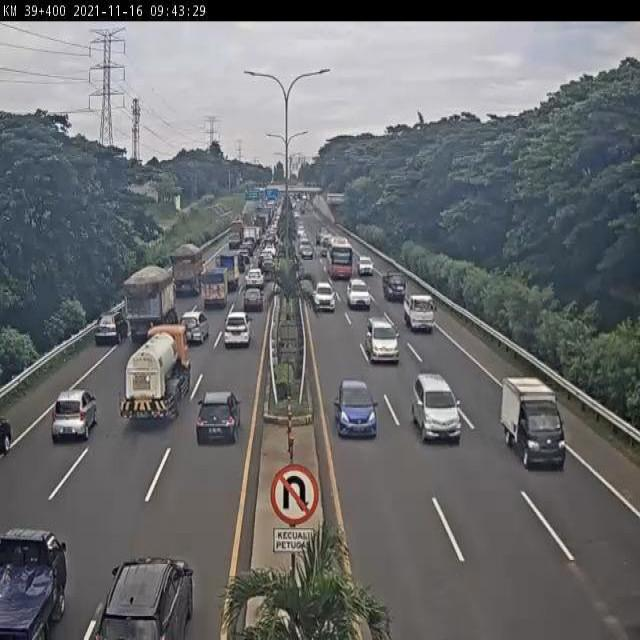car: (94, 556, 192, 640), (0, 525, 67, 640), (413, 372, 463, 441), (334, 378, 380, 442), (49, 389, 98, 447), (194, 388, 241, 444), (366, 316, 402, 365), (94, 308, 132, 349), (403, 292, 438, 335), (221, 314, 251, 358), (175, 313, 209, 348), (382, 266, 407, 302), (348, 276, 370, 308), (313, 284, 336, 313), (242, 288, 264, 317)
small truck: (500, 376, 565, 473), (199, 265, 228, 311)
truck-m-: (120, 327, 190, 425), (122, 265, 175, 347), (169, 244, 204, 297)
